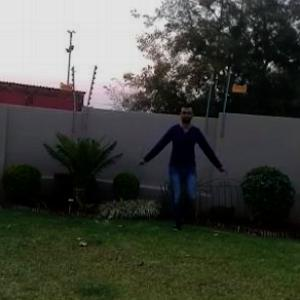land: (135, 107, 229, 232)
